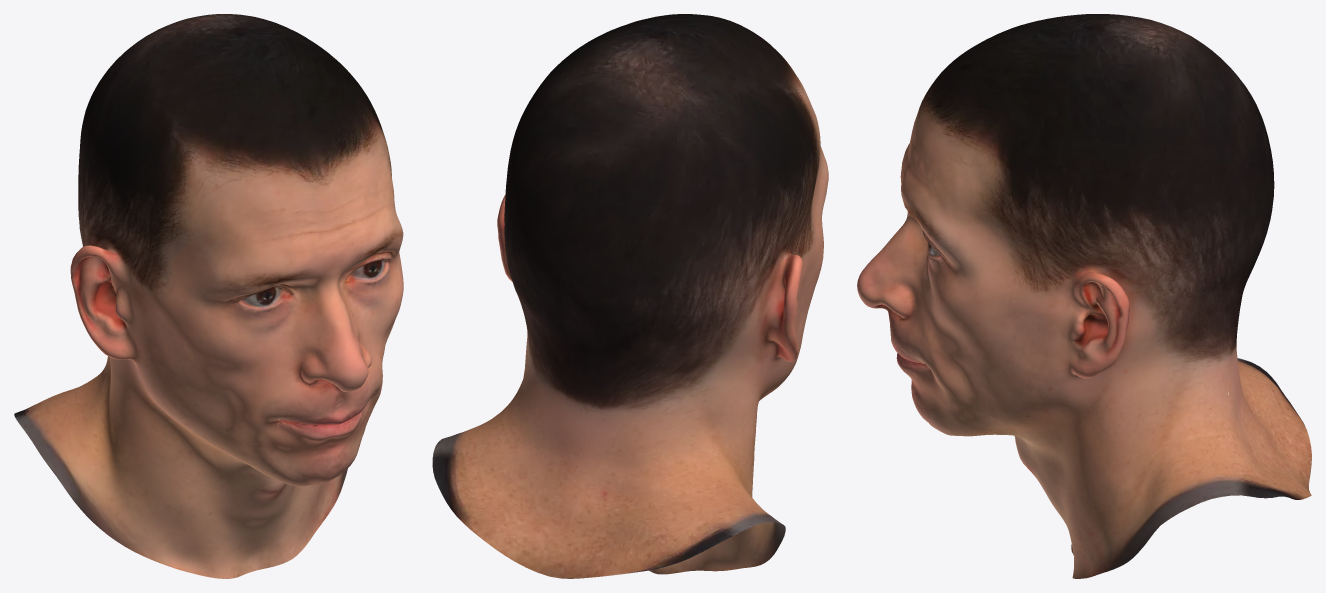
The model's file is 真人头像_opt.glb.
3 views of the same model, side by side, from view 1: azimuth 30°, elevation 25°; view 2: azimuth 150°, elevation 25°; view 3: azimuth 270°, elevation 25° (orthographic).
Parts seen in each view (by area): view 1: Head_lp_ex1defaultMat_1; view 2: Head_lp_ex1defaultMat_1; view 3: Head_lp_ex1defaultMat_1.
Boxes of the visible parts, x1,y1,x2,y2 form: Head_lp_ex1defaultMat_1: [14, 14, 403, 578]; Head_lp_ex1defaultMat_1: [432, 14, 828, 578]; Head_lp_ex1defaultMat_1: [857, 14, 1311, 578].
Size of what is drawn, in the model's own units: 0.2454 by 0.4 by 0.3065.
1 material, 1 textured.
